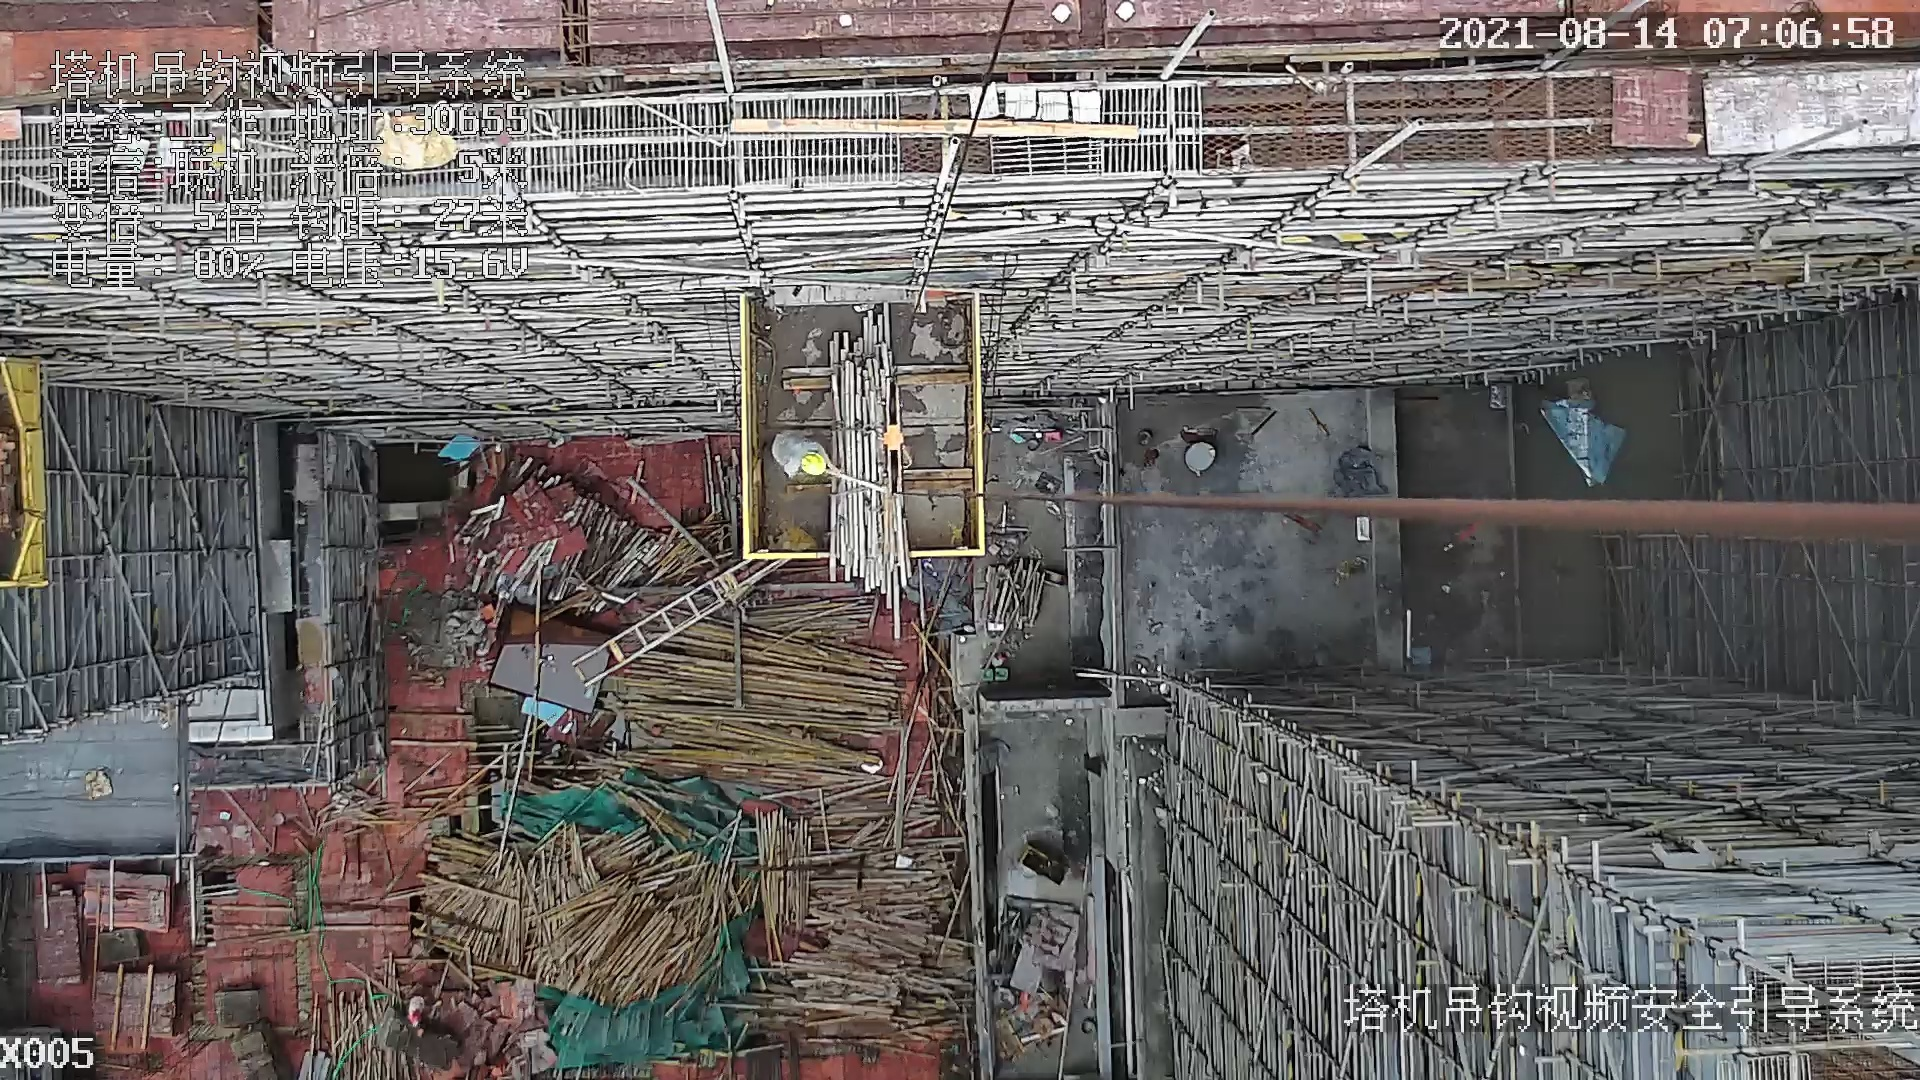helmet: (799, 451, 827, 476)
hook: (873, 374, 918, 504)
person: (769, 432, 841, 476)
